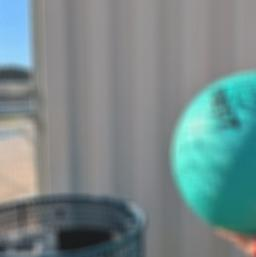algae: (169, 64, 256, 232)
